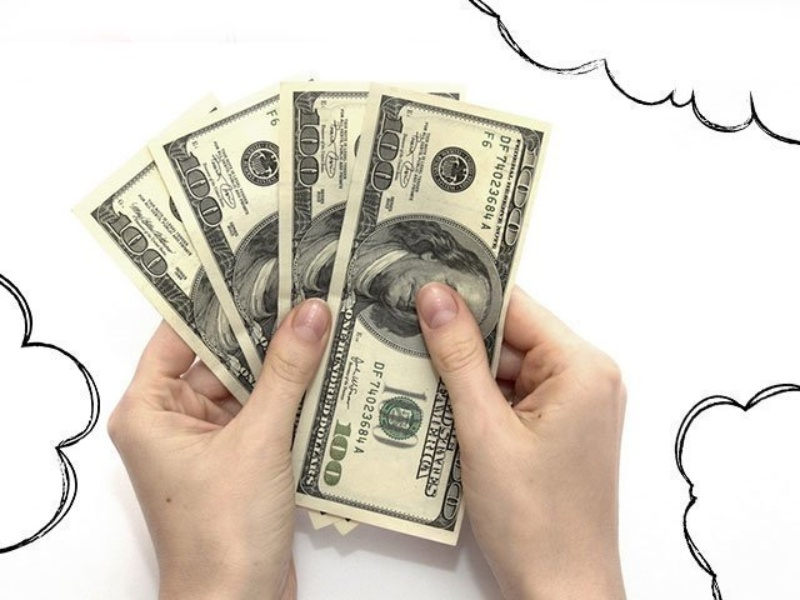cash: (70, 77, 551, 546)
